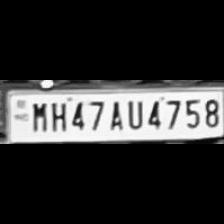4: (66, 97, 86, 130), (144, 96, 162, 130)
5: (180, 96, 200, 130)
7: (85, 97, 105, 130), (162, 96, 180, 130)
8: (200, 96, 220, 128)
A: (104, 97, 124, 130)
H: (47, 98, 67, 132)
M: (28, 98, 48, 132)
U: (124, 96, 144, 130)
